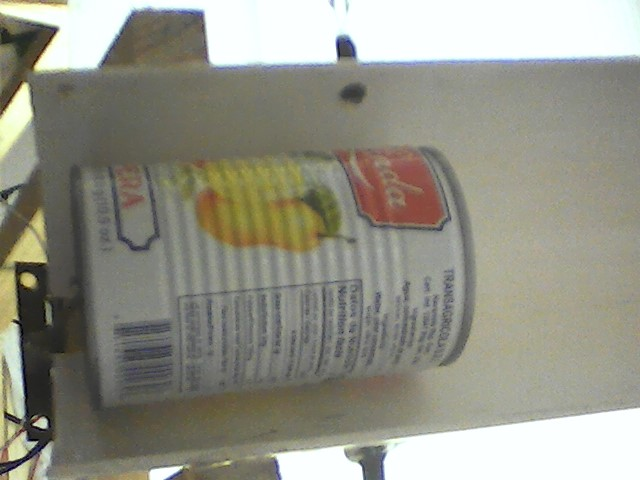lata: (67, 144, 489, 420)
